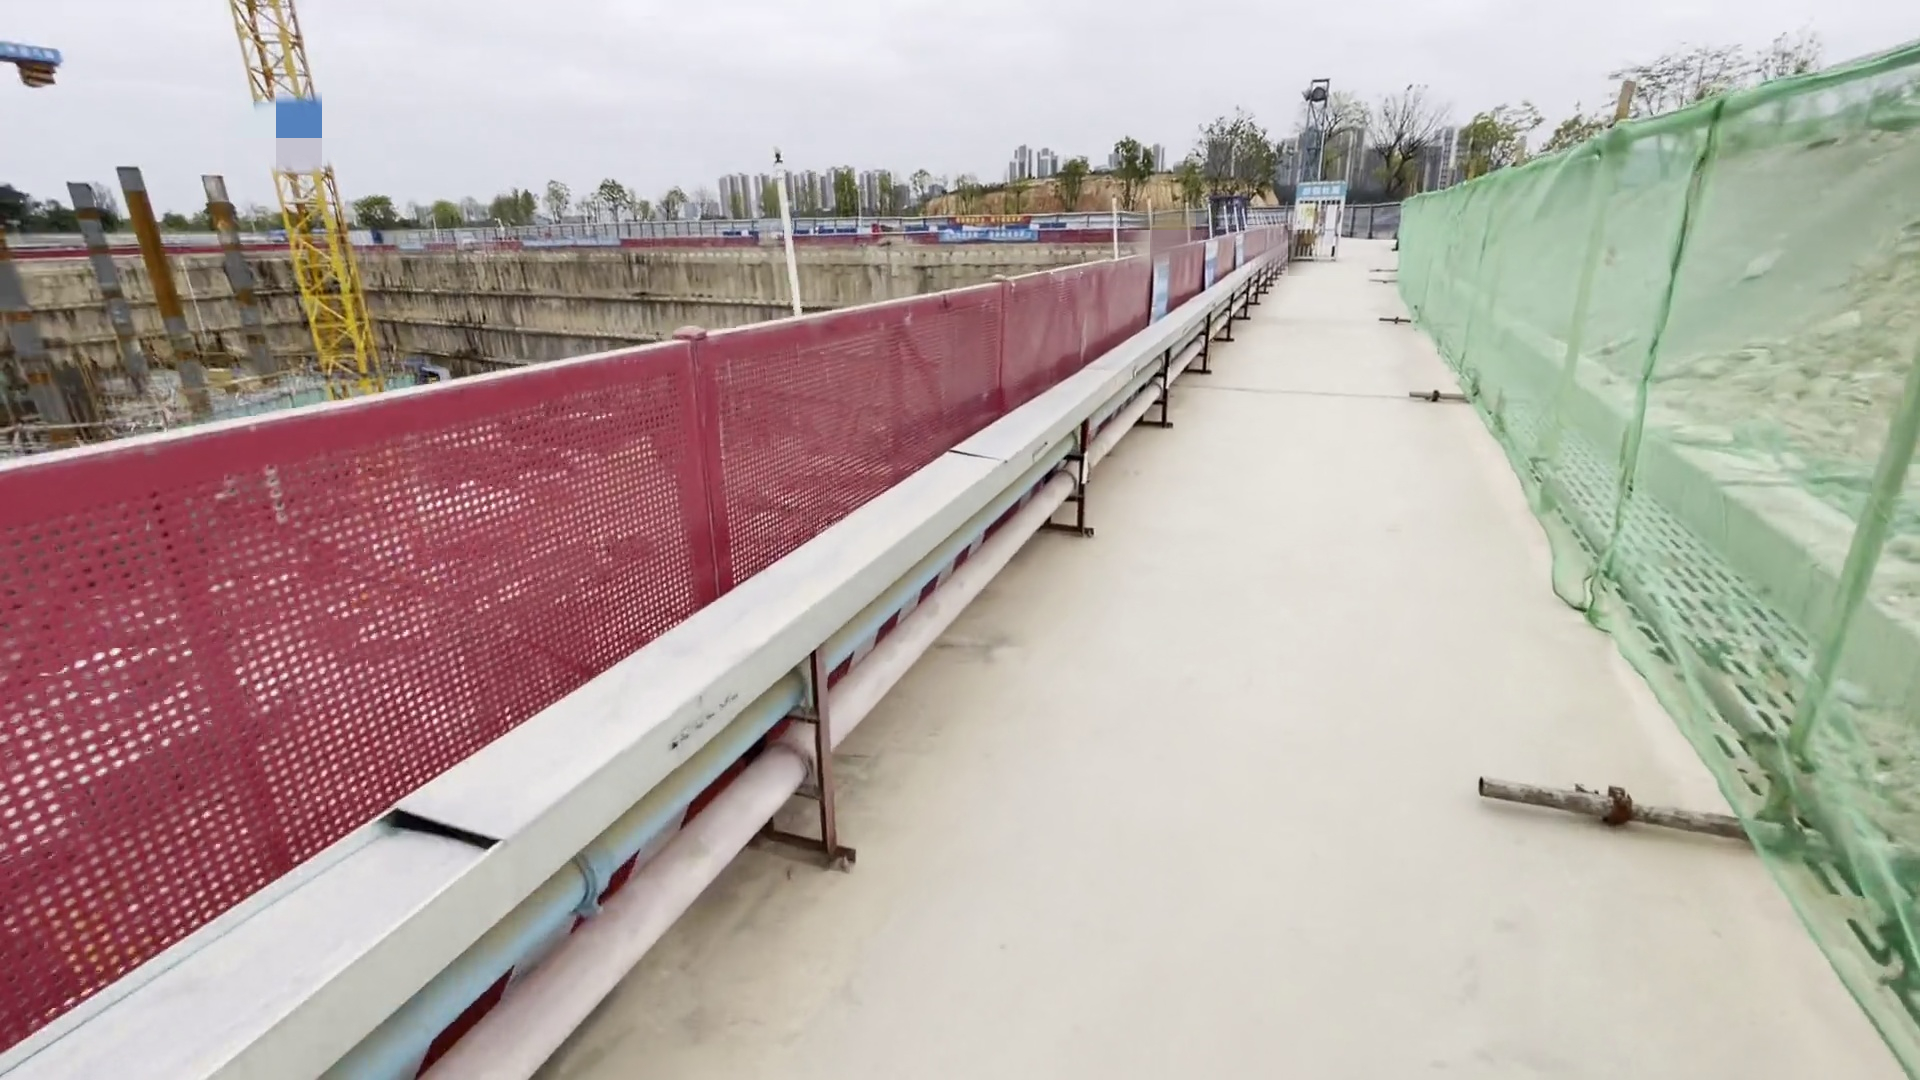fence: (1, 237, 1284, 1073)
slogan: (1304, 181, 1345, 198)
